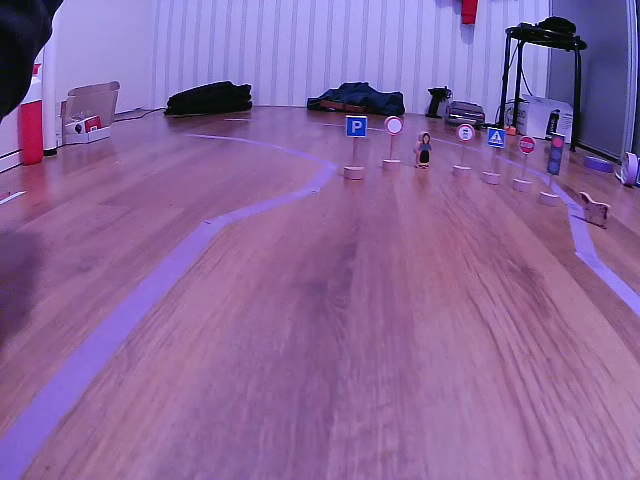fietspad: (459, 125, 473, 142)
mens: (416, 132, 431, 168)
paard: (575, 189, 610, 227)
parkeerbord: (344, 115, 369, 140)
roodlicht: (547, 130, 564, 176)
stopbord: (519, 135, 534, 154)
wegdicht: (385, 116, 401, 136)
zebrapad: (488, 128, 505, 147)
